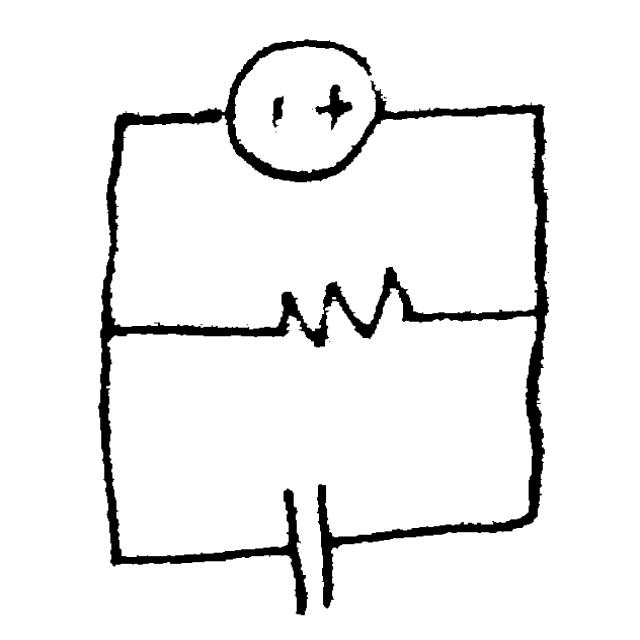capacitor: (262, 469, 360, 624)
dc: (208, 27, 395, 185)
resistor: (257, 259, 424, 363)
